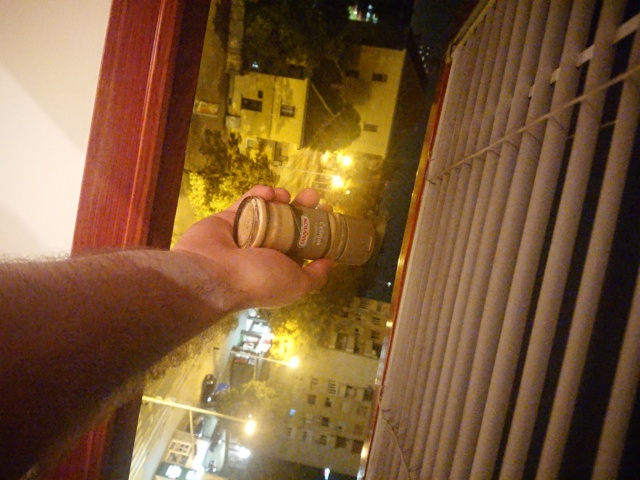Kotanyi Garlic Granules 70g: (231, 193, 378, 268)
